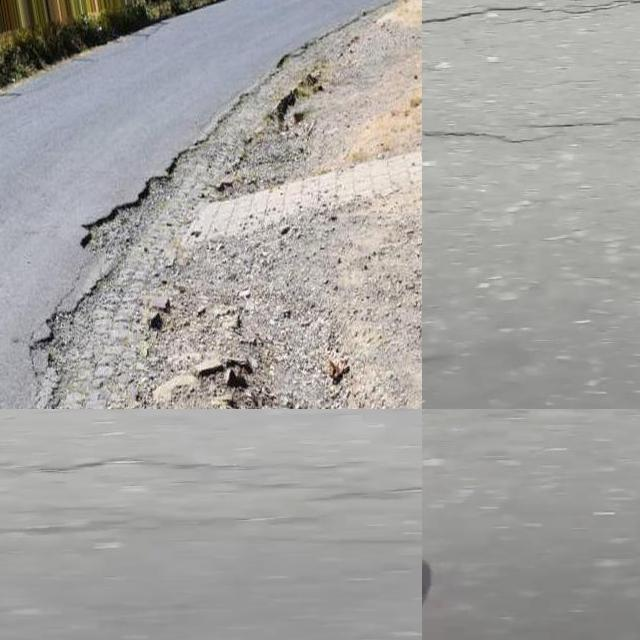Melintang: (422, 107, 640, 151), (422, 0, 640, 33)
Pinggir: (21, 1, 374, 409)
